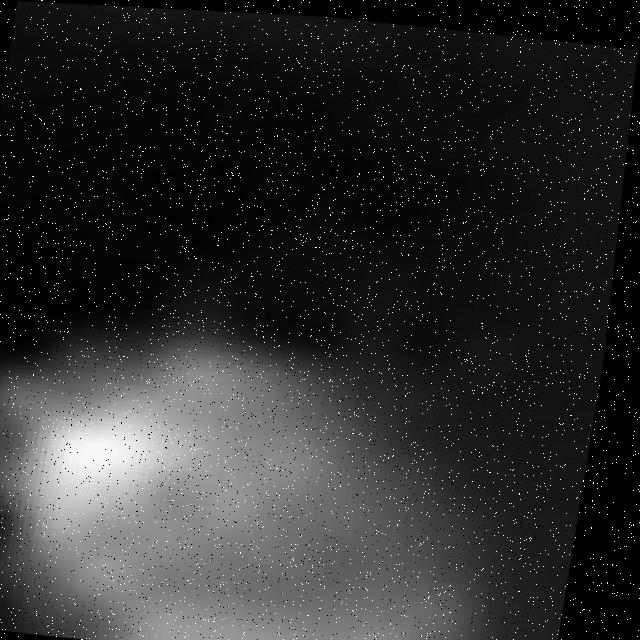person: (1, 317, 612, 640)
